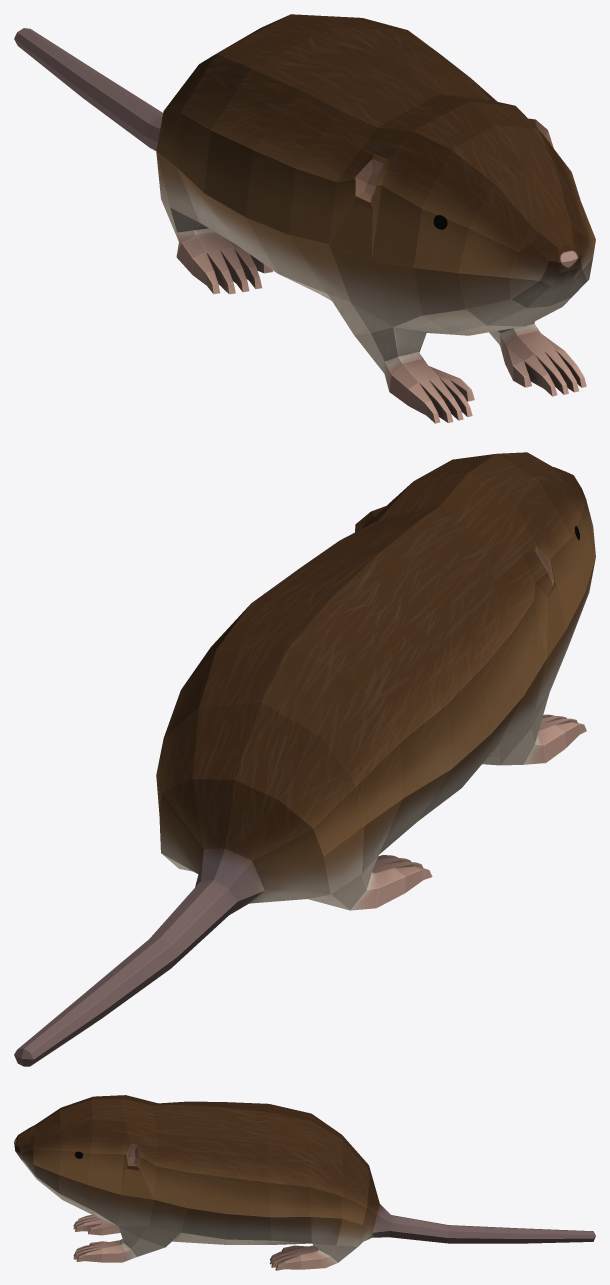
The picture shows the model from 3 angles, top to bottom: view 1: azimuth 30°, elevation 25°; view 2: azimuth 150°, elevation 25°; view 3: azimuth 270°, elevation 25°; orthographic projection. The views are drawn at different scales.
Parts seen in each view (by area): view 1: Gopher_Mesh; view 2: Gopher_Mesh; view 3: Gopher_Mesh.
Part boxes in pixels (bbox=[...]): Gopher_Mesh: bbox=[14, 14, 595, 423]; Gopher_Mesh: bbox=[14, 452, 595, 1066]; Gopher_Mesh: bbox=[14, 1095, 595, 1270].
Bounding box in the file's own units: 1.73 × 1.81 × 6.61.
Materials: 1 (1 with a texture image).
